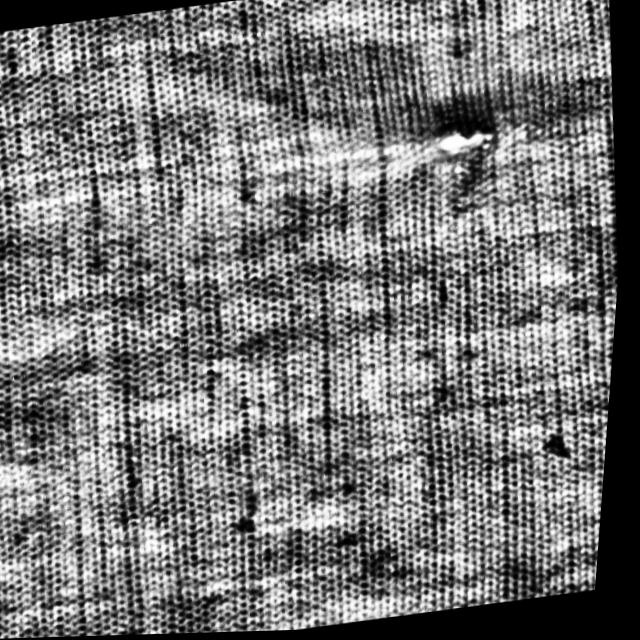Hole: (431, 117, 502, 164)
